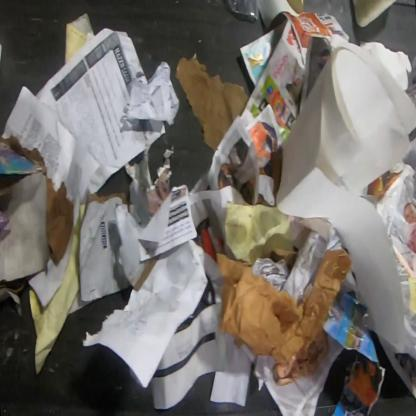cardboard: (0, 134, 75, 265), (78, 192, 161, 303), (0, 174, 48, 283)
soft_plastic: (225, 0, 260, 20)
